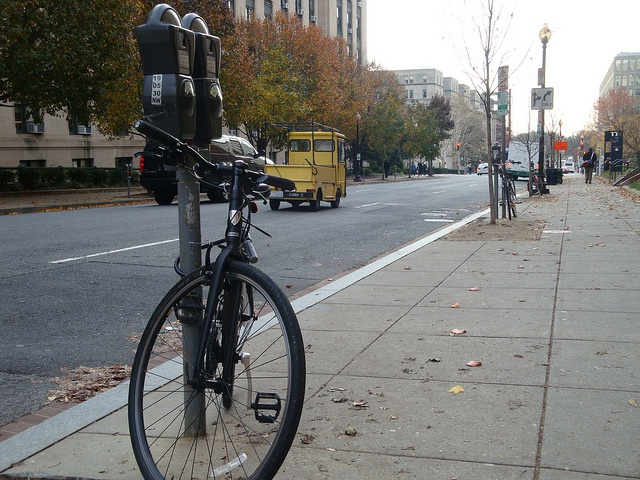non-vehicle: (122, 121, 303, 472), (493, 160, 519, 216)
